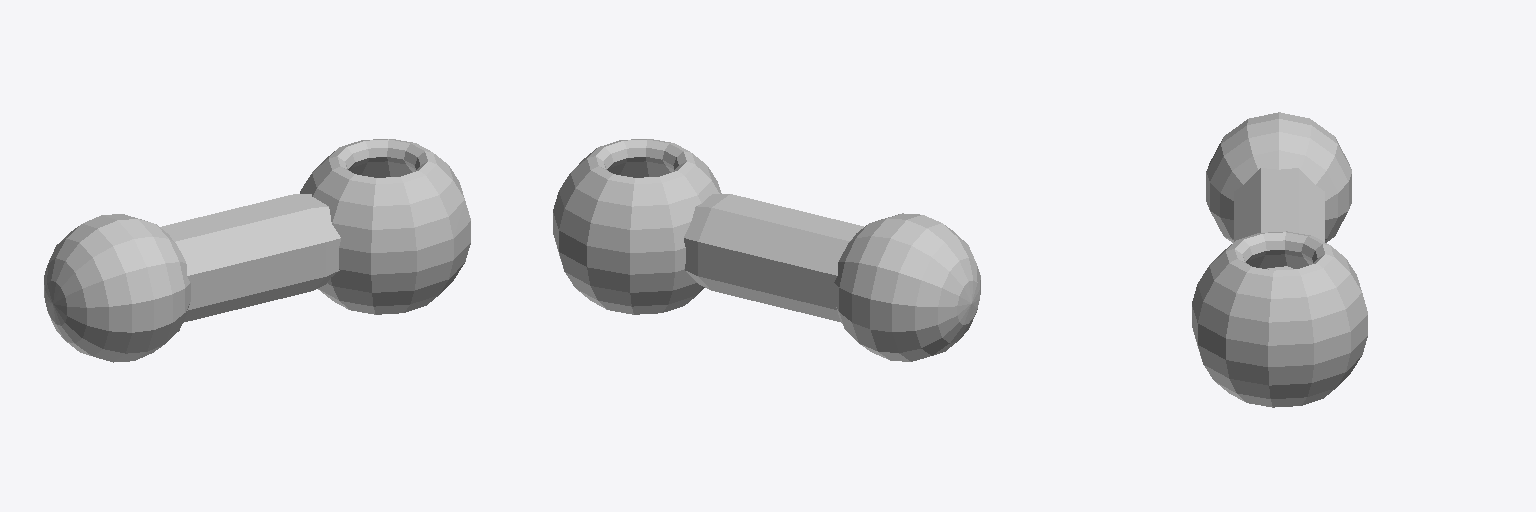
The model's file is brazoDer.obj.
The picture shows the model from 3 angles: view 1: azimuth 30°, elevation 25°; view 2: azimuth 150°, elevation 25°; view 3: azimuth 270°, elevation 25°; orthographic projection.
Parts seen in each view (by area): view 1: BalloonBoy.002; view 2: BalloonBoy.002; view 3: BalloonBoy.002.
Boxes of the visible parts, <box> form: BalloonBoy.002: <box>44,139,470,362</box>; BalloonBoy.002: <box>553,139,980,361</box>; BalloonBoy.002: <box>1192,112,1367,407</box>.
Bounding box in the file's own units: 12.99 × 4.25 × 4.89.